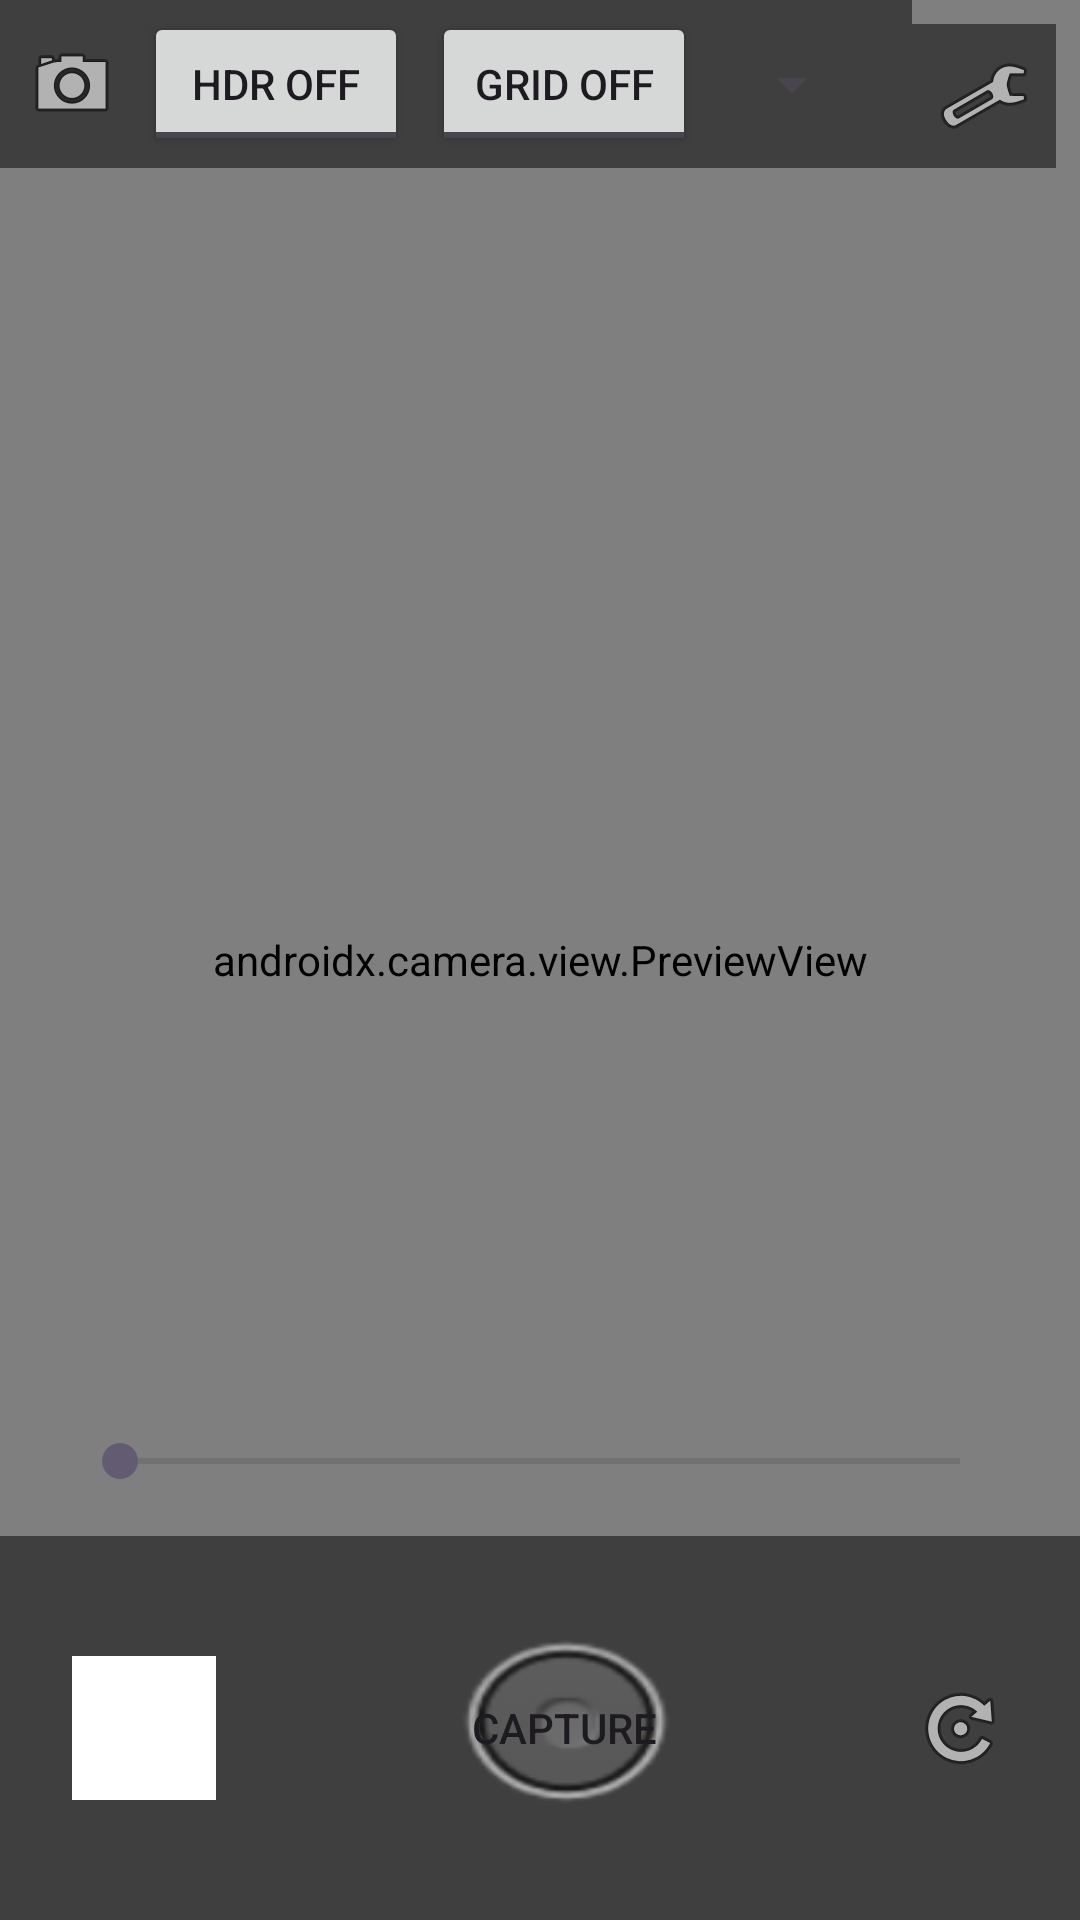

Screen size 1080*1920. Icon name, then its box in pixels as (x1=x1, y1=y1, x2=x2, y2=y2):
Settings: (x1=941, y1=64, x2=1027, y2=128)
Switch Camera: (x1=926, y1=1693, x2=994, y2=1764)
